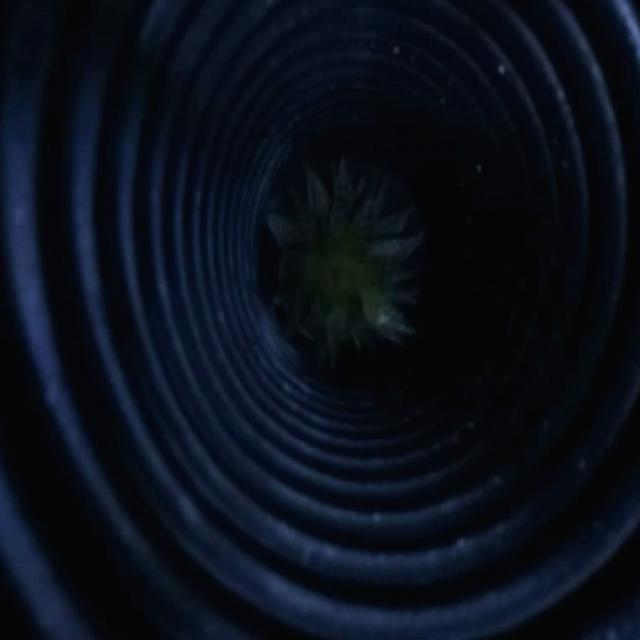leaf: (270, 163, 414, 349)
